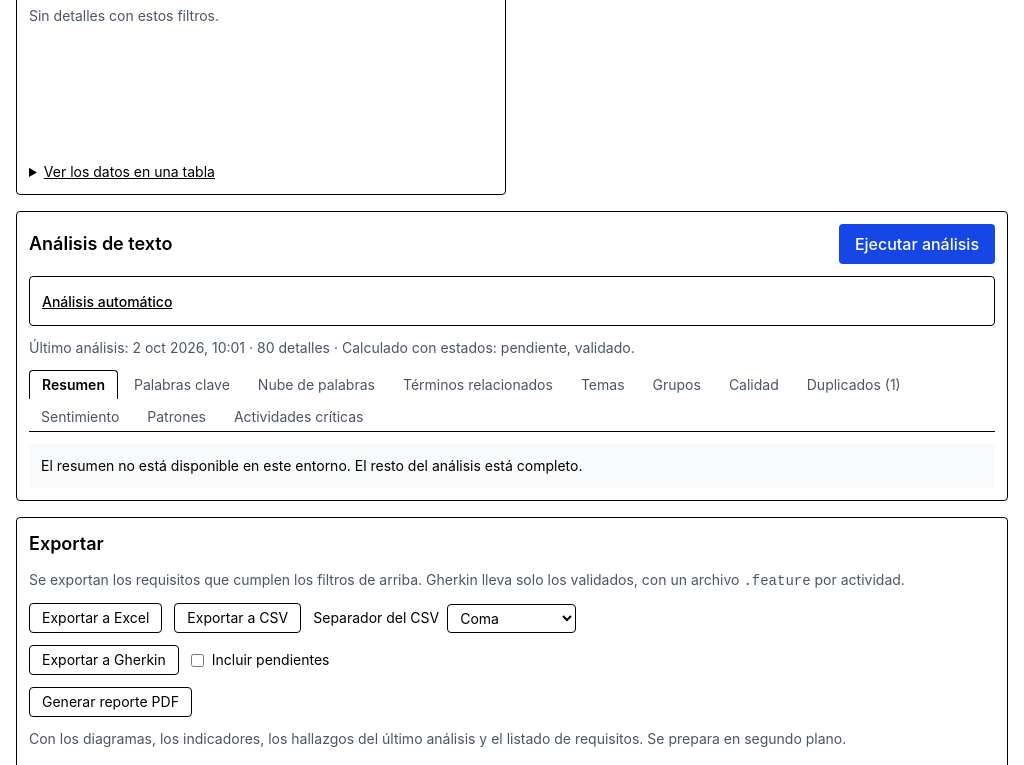
Test: resultados › temas con sus términos, detalles y actividades
(page scrolled)
Click the tab "Temas" at point(603, 384), box [569, 370, 636, 399]
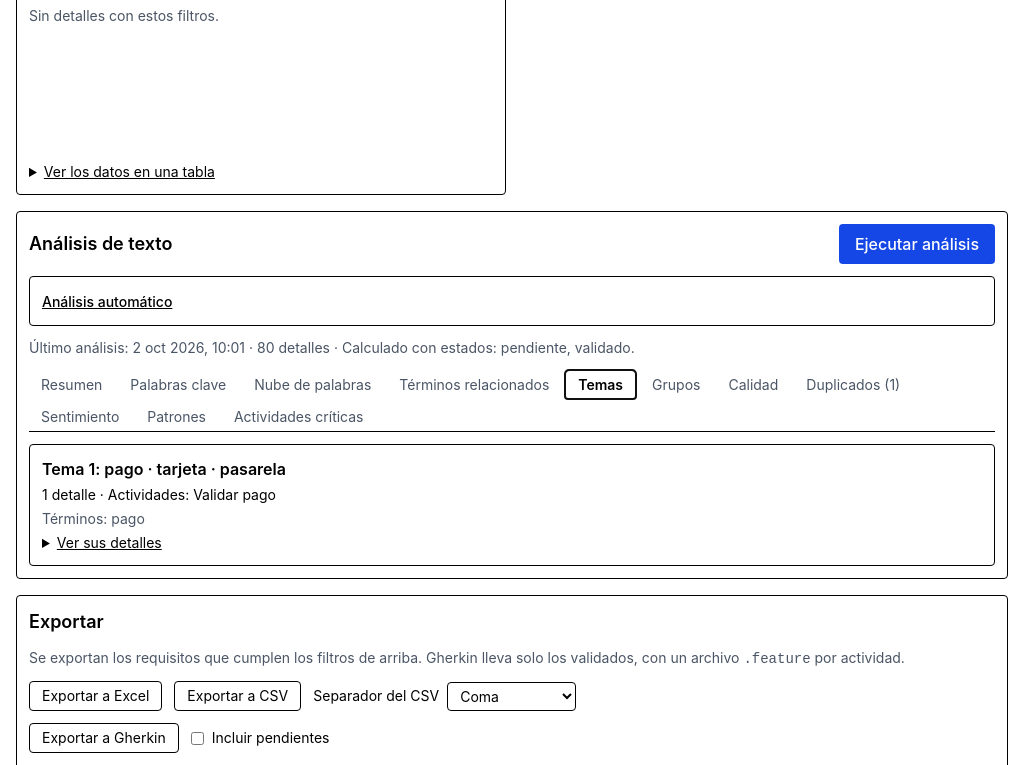
Check: the heading "Tema 1: pago · tarjeta · pasarela" is shown, box [42, 459, 286, 479]
Check: the list item "Tema 1" shows "1 detalle · Actividades: Validar pago", box [29, 444, 995, 566]
Check: the list item "Tema 1" shows "Términos: pago", box [29, 444, 995, 566]
